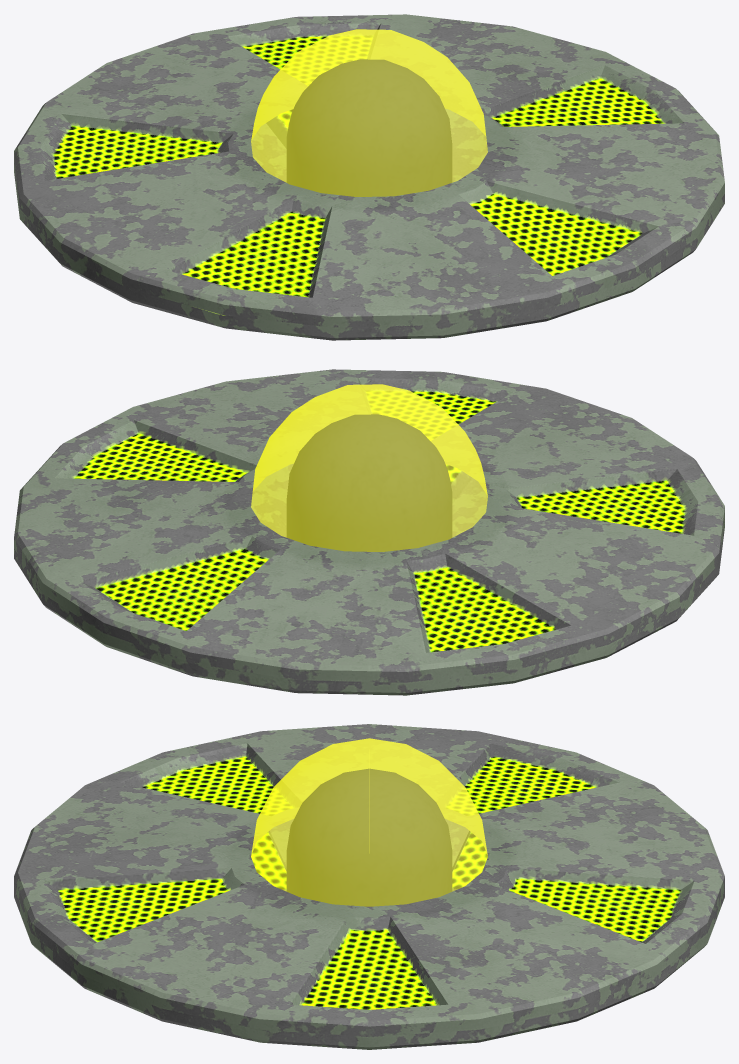
The picture shows the model from 3 angles, top to bottom: view 1: azimuth 30°, elevation 25°; view 2: azimuth 150°, elevation 25°; view 3: azimuth 270°, elevation 25°; orthographic projection.
Visible parts, largest first — view 1: Ufo; view 2: Ufo; view 3: Ufo.
Boxes of the visible parts, left/top/right/bottom form: Ufo: left=14, top=14, right=724, bottom=340; Ufo: left=14, top=369, right=724, bottom=695; Ufo: left=14, top=724, right=724, bottom=1049.
Bounding box in the file's own units: 600 × 243 × 600.
Materials: 2 (2 with a texture image).
